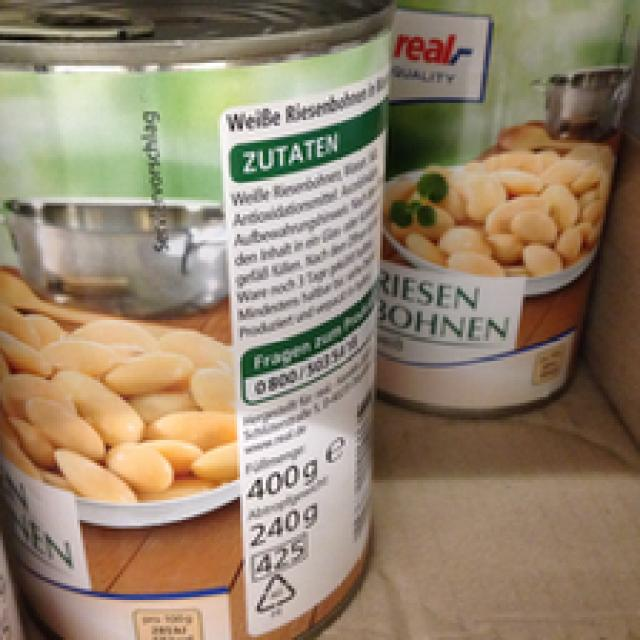groceries: (6, 6, 391, 637), (394, 6, 632, 403)
